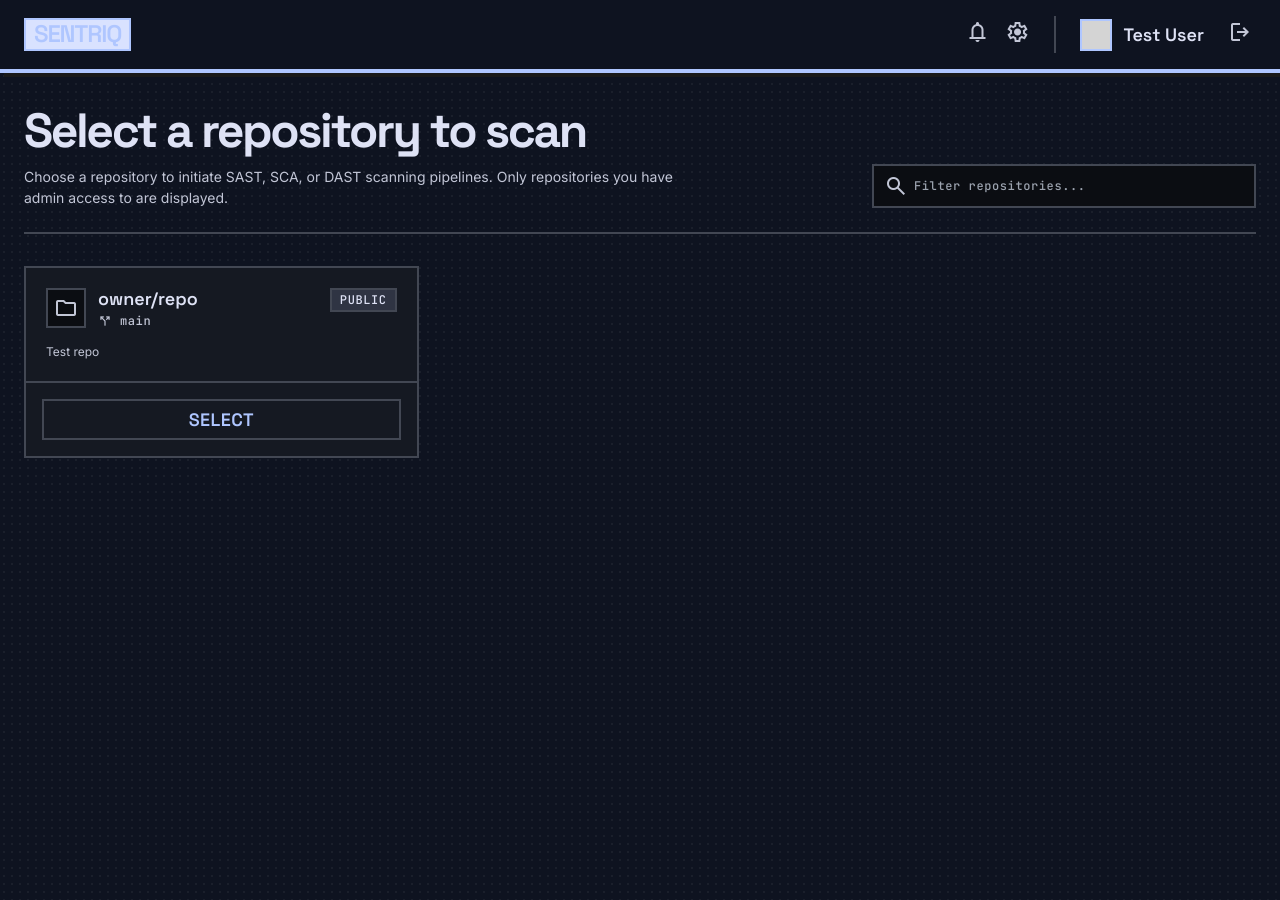
Test: App › routes to a different tab via the Sidebar navigation
This screenshot has width=1280, height=900.
Click the button "Select" at [221, 419], box [42,399,401,440]
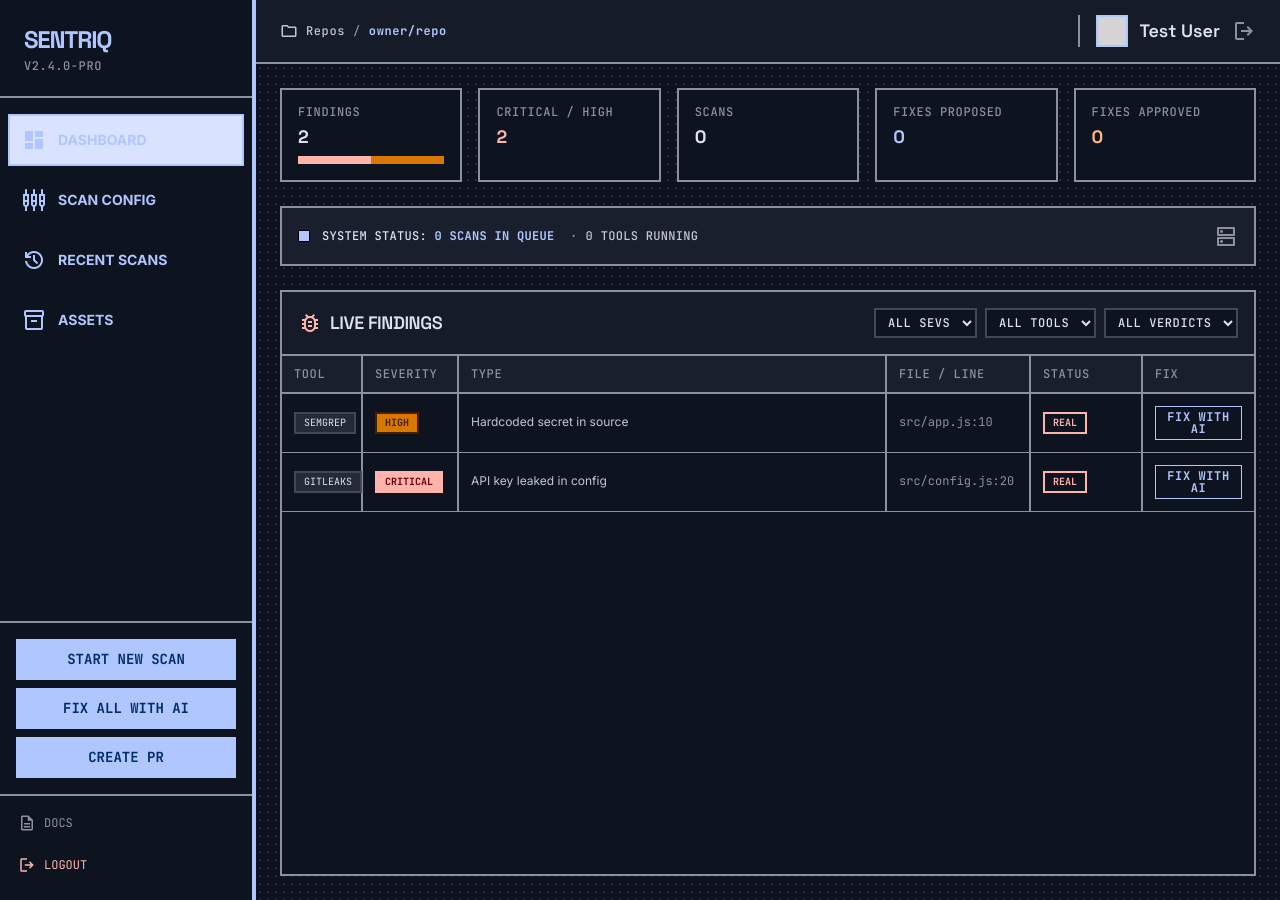
Now the heading "Live Findings" is shown, box [298,311,442,335]
Click the button "Scan Config" at [126, 200], box [8,174,244,226]
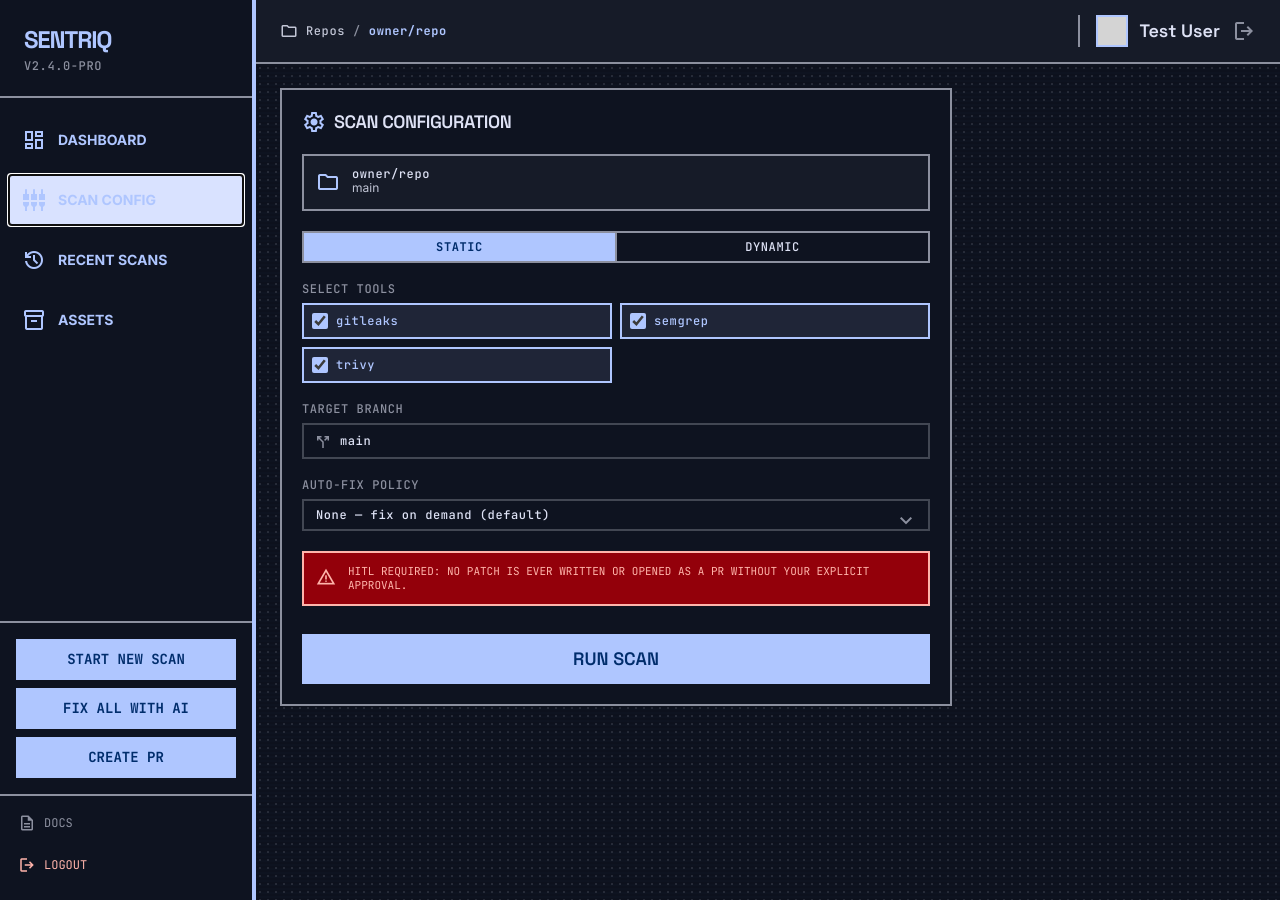
Now the heading "Scan Configuration" is shown, box [302,108,511,136]
Now the heading "Live Findings" is gone
